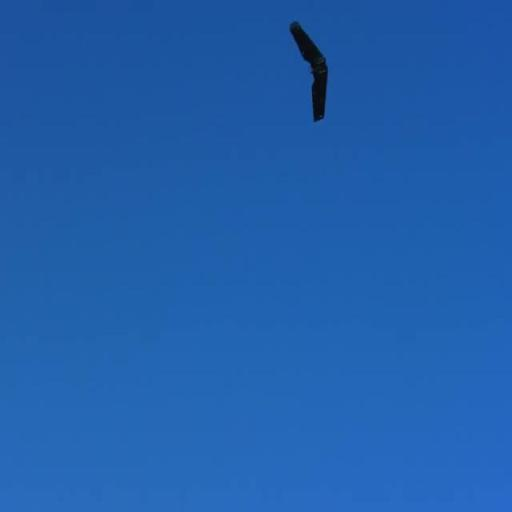uav: (285, 20, 331, 130)
